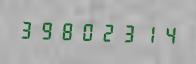eight: (57, 18, 76, 43)
four: (157, 22, 176, 46)
nine: (37, 17, 56, 42)
one: (137, 21, 156, 46)
three: (117, 20, 136, 45), (17, 17, 36, 41)
two: (97, 19, 116, 44)
zero: (77, 19, 96, 43)
